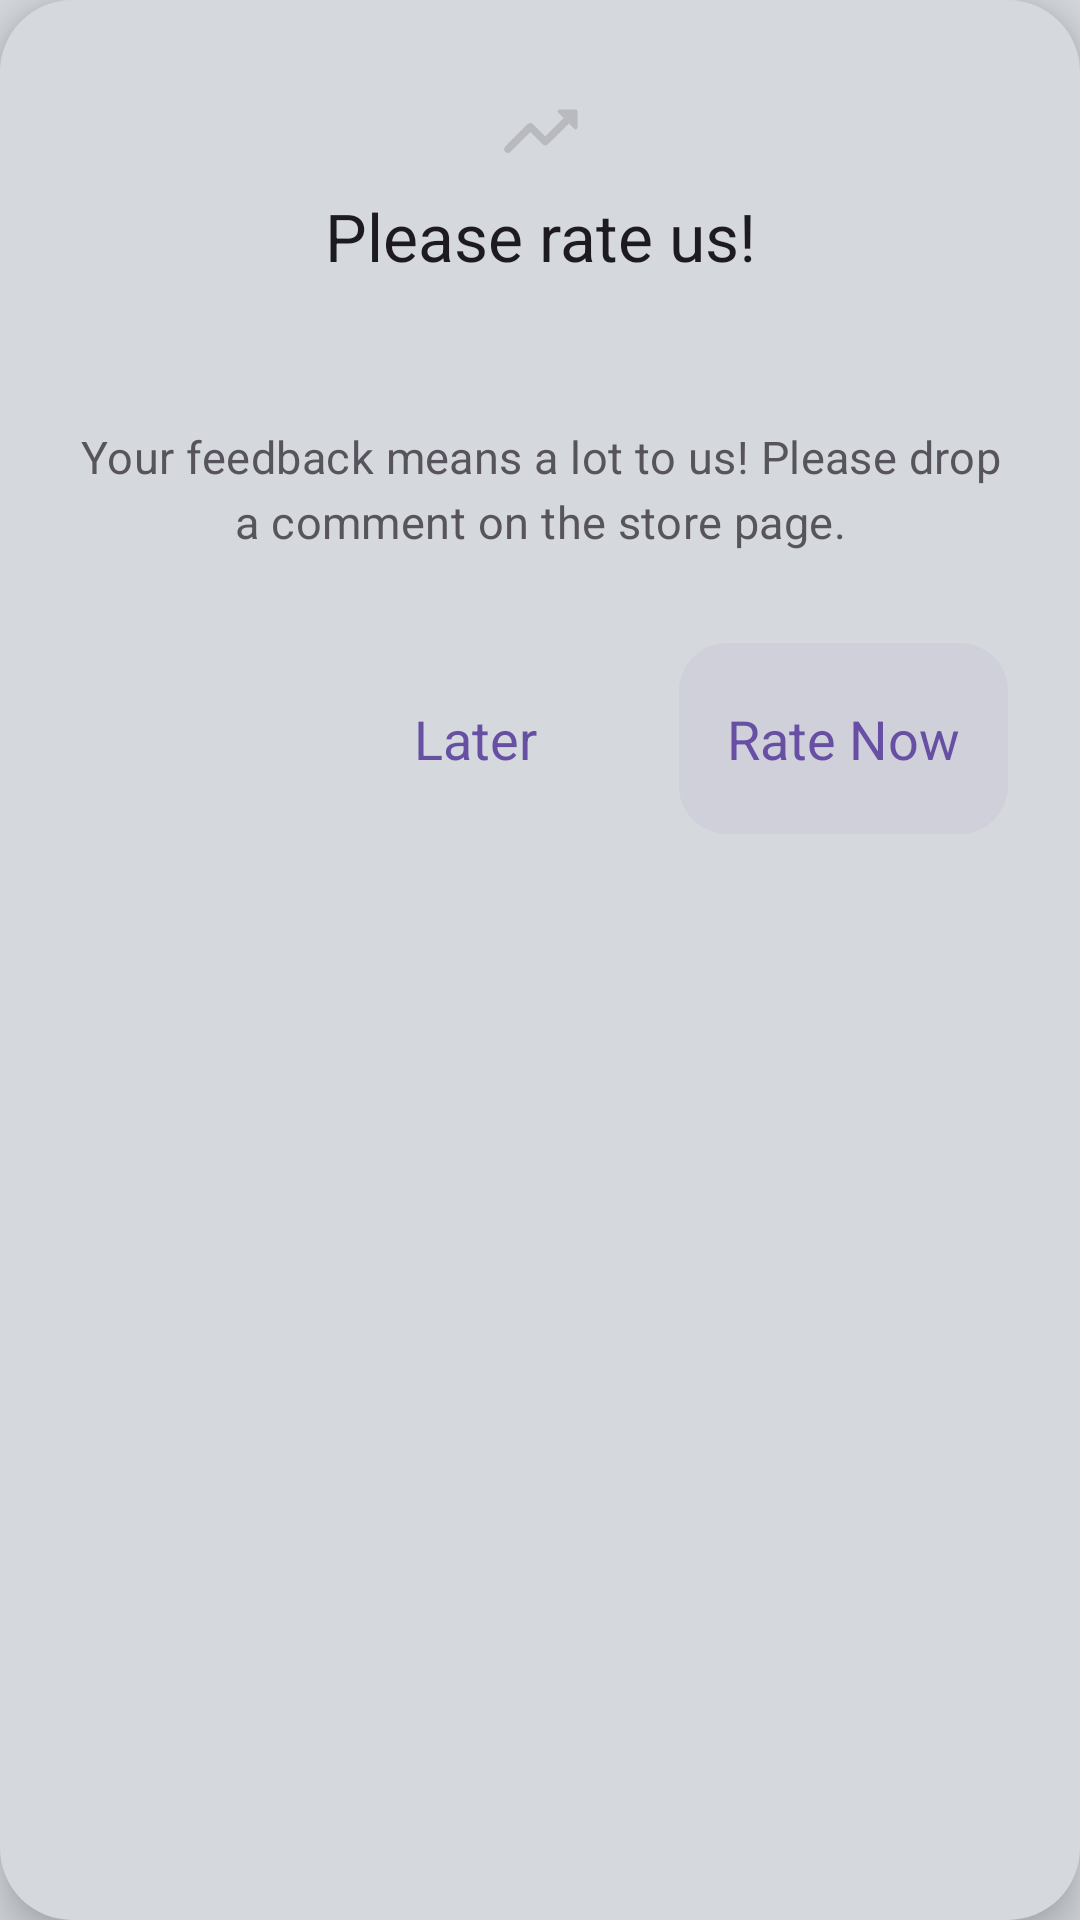

Locate icon controls on the screen. Image size 1080×1920, boxes as {"x1": x1, "y1": y1, "x2": x2, "y2": y2}.
trending up: {"x1": 504, "y1": 110, "x2": 577, "y2": 153}
